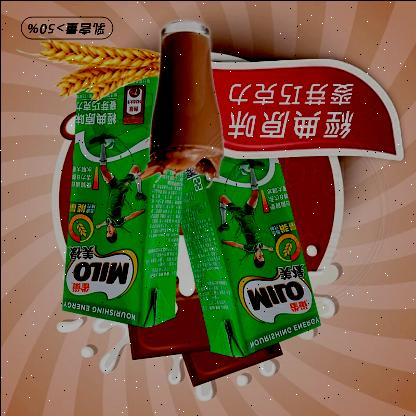Others: (62, 77, 182, 326), (180, 157, 318, 356)
